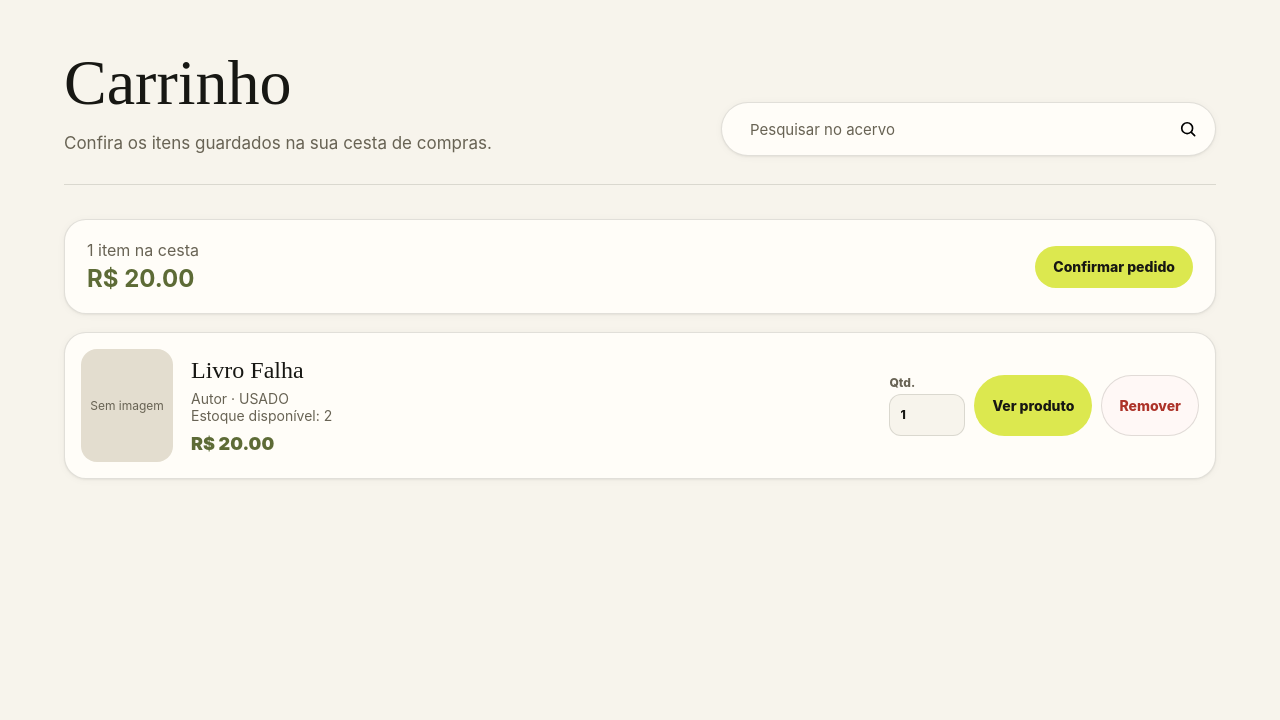
Scenario: cobertura de branches restantes › mostra carrinho desalinhado quando a remocao falha
Expected: the heading "Livro Falha" is shown, [191, 357, 304, 383]
Click the button "Remover".
click(1150, 405)  # box [1101, 375, 1199, 436]
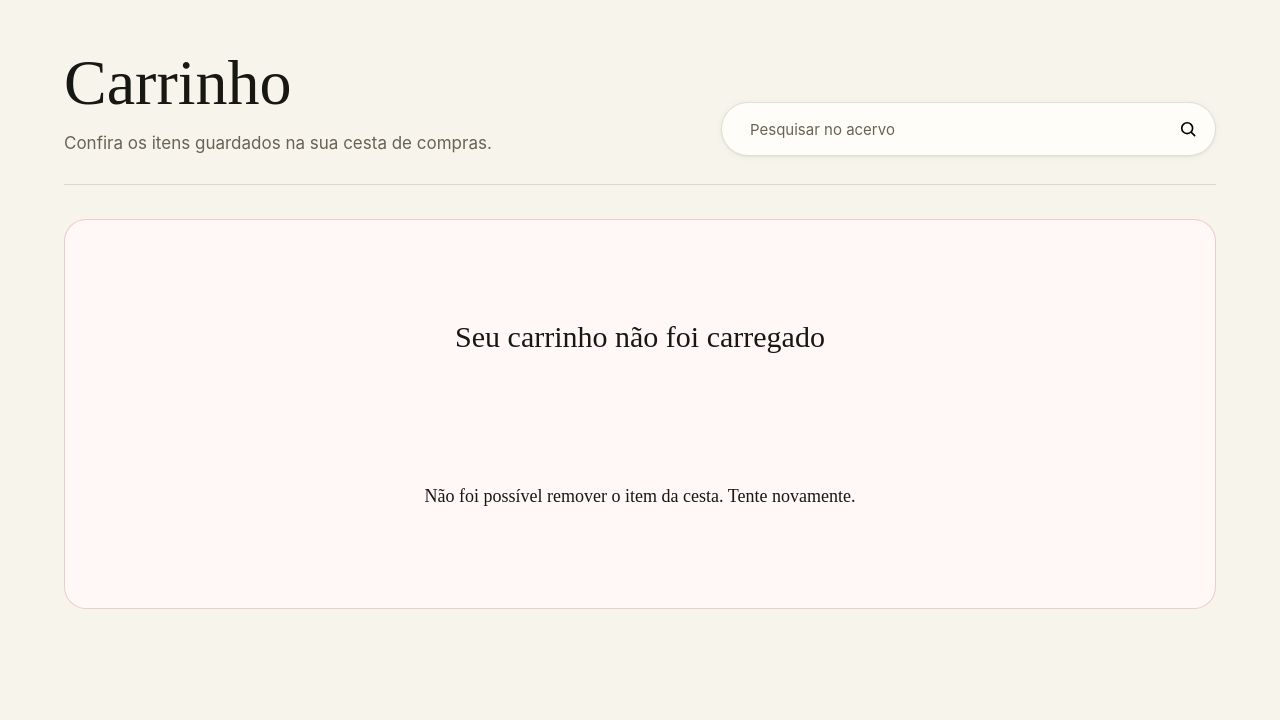
Result: the text "Não foi possível remover o item da cesta. Tente novamente." is shown at [425, 482, 855, 509]
